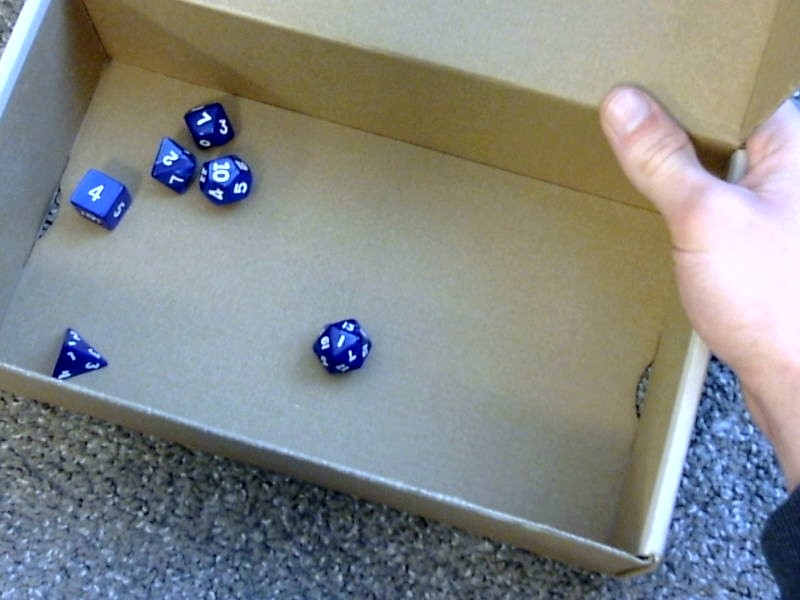d10 7: (183, 94, 238, 147)
d12 10: (198, 154, 253, 206)
d20 1: (309, 313, 374, 381)
d4 1: (45, 320, 109, 385)
d6 4: (60, 168, 132, 233)
d8 2: (142, 138, 197, 194)
